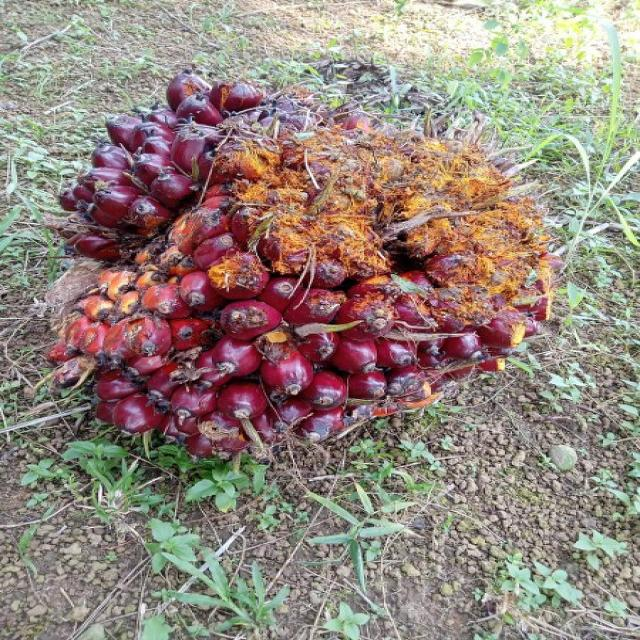fraksi 1: (47, 23, 583, 475)
